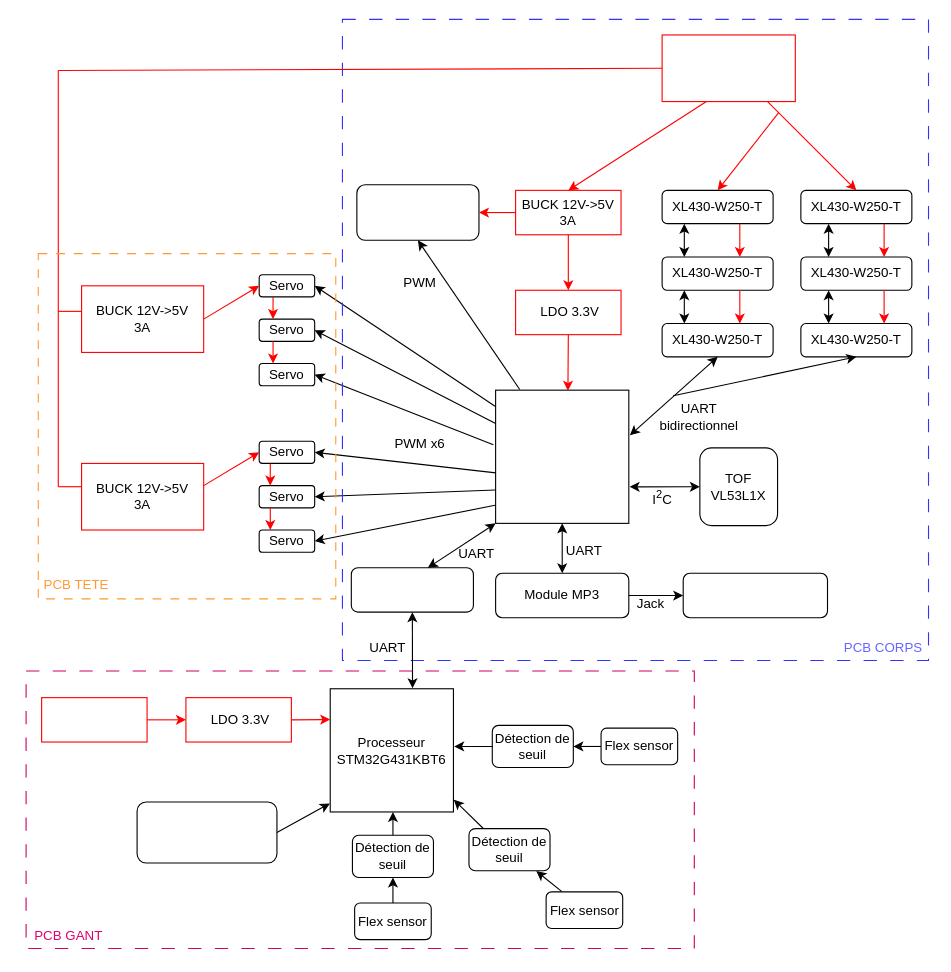
This 951x972 diagram has some shape labels left out. The box of each missing label's shape, as (x1, y1, x2, y2) in pixels:
ALIMENTATION 230V -> 12V: (661, 34, 795, 102)
Ampli + Haut parleurs: (682, 572, 828, 618)
HC05 (Bluetooth): (350, 567, 473, 612)
LiPo 2S1P: (41, 697, 147, 742)
Processeur STM32G474RET6: (495, 389, 629, 523)
Rotary encoder: modulation du volume: (136, 801, 277, 863)
Ruban + 2xLED neopixel: (356, 184, 479, 240)
